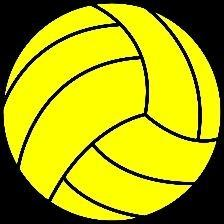Sports-Ball: (4, 5, 220, 224)
